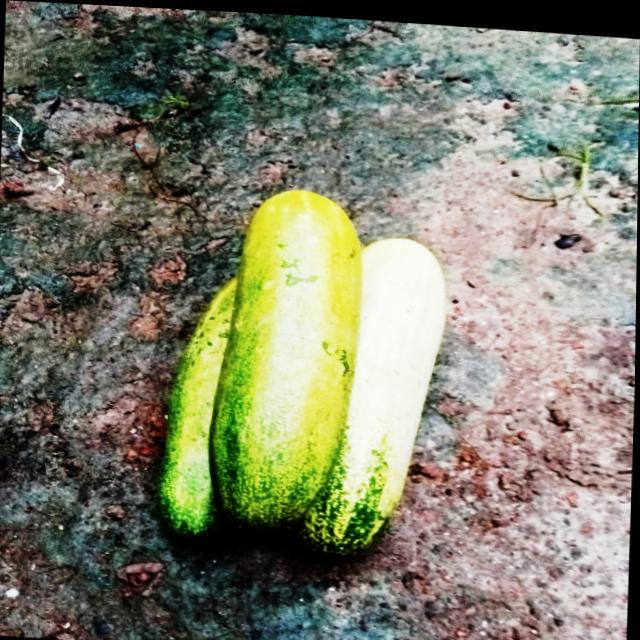Fresh-Cucumber: (208, 175, 368, 537), (294, 224, 454, 556), (154, 261, 250, 540)
